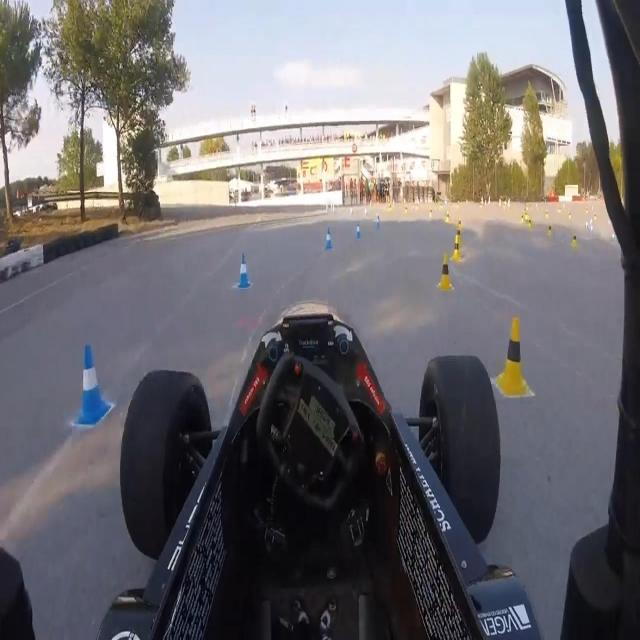blue_cone: (75, 346, 108, 424), (240, 255, 250, 289), (326, 227, 332, 250), (355, 221, 360, 239), (376, 215, 380, 230), (364, 205, 368, 217)
yellow_cone: (498, 315, 528, 395), (439, 252, 452, 292), (452, 232, 461, 263), (547, 219, 553, 239), (572, 230, 577, 249), (528, 215, 532, 233), (458, 217, 462, 233), (520, 211, 524, 225), (429, 206, 433, 220), (446, 210, 450, 222), (404, 202, 408, 213)
